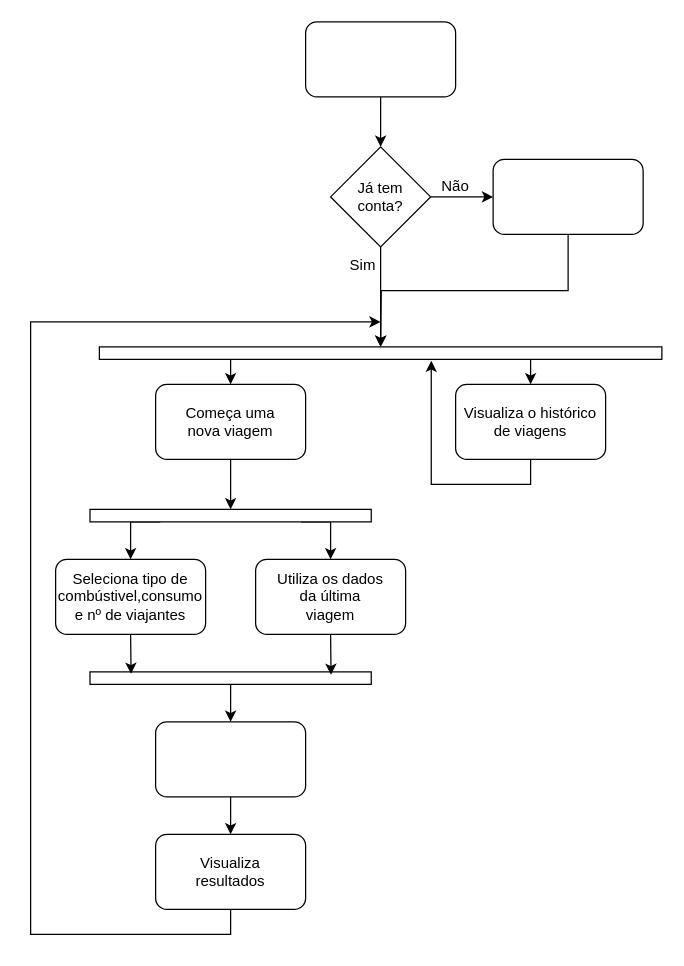
Some shapes in this 684 by 966 pixel diagram are drawn without their labels. The centre of each missing label's shape, as x and y in pixels:
"Cria uma nova conta e regista-se" belongs at point (567, 196).
"Inicia a aplicação TripMates" belongs at point (380, 59).
"Inicio da viagem" belongs at point (230, 759).
